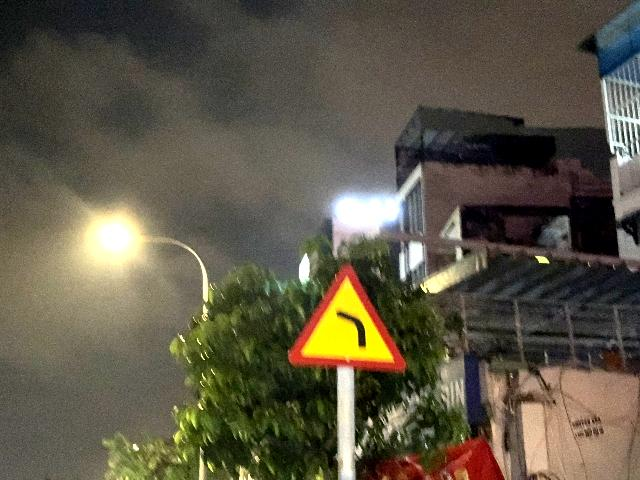cho-ngoat-nguy-hiem-ben-trai: (288, 262, 407, 373)
